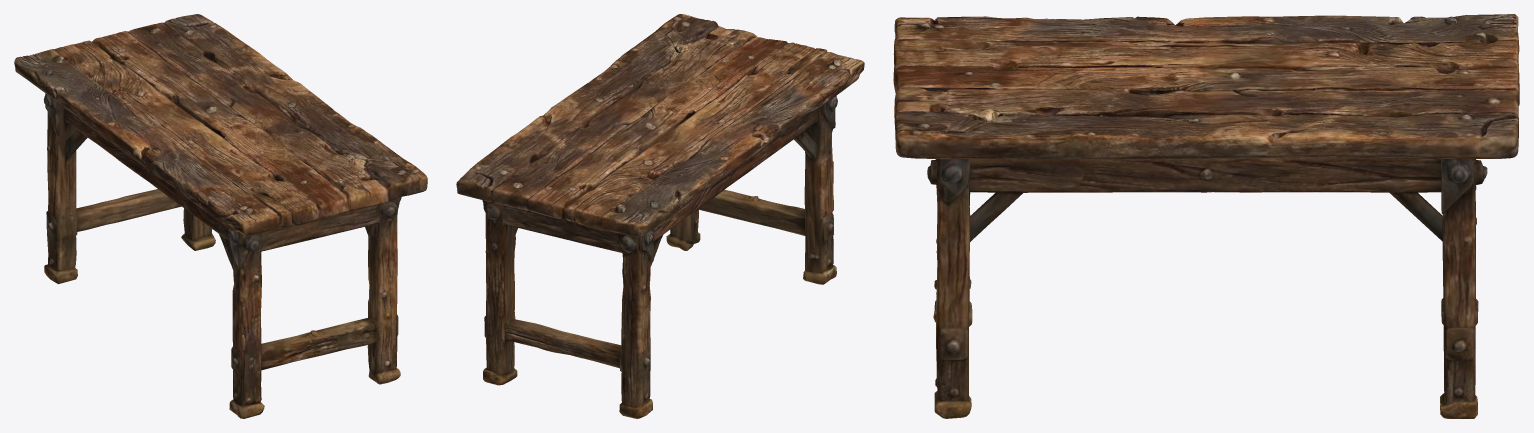
Rendered from table.glb.
3 renders of one model, left to right at view 1: azimuth 30°, elevation 25°; view 2: azimuth 150°, elevation 25°; view 3: azimuth 270°, elevation 25°, orthographic. The views are drawn at different scales.
Visible parts, largest first — view 1: table; view 2: table; view 3: table.
Part boxes in pixels (left/top/right/bottom): table: left=14, top=14, right=427, bottom=418; table: left=456, top=14, right=864, bottom=418; table: left=893, top=14, right=1519, bottom=418.
Size of the model in its own units: 0.4777 by 0.5067 by 0.9784.
1 material, 1 textured.
